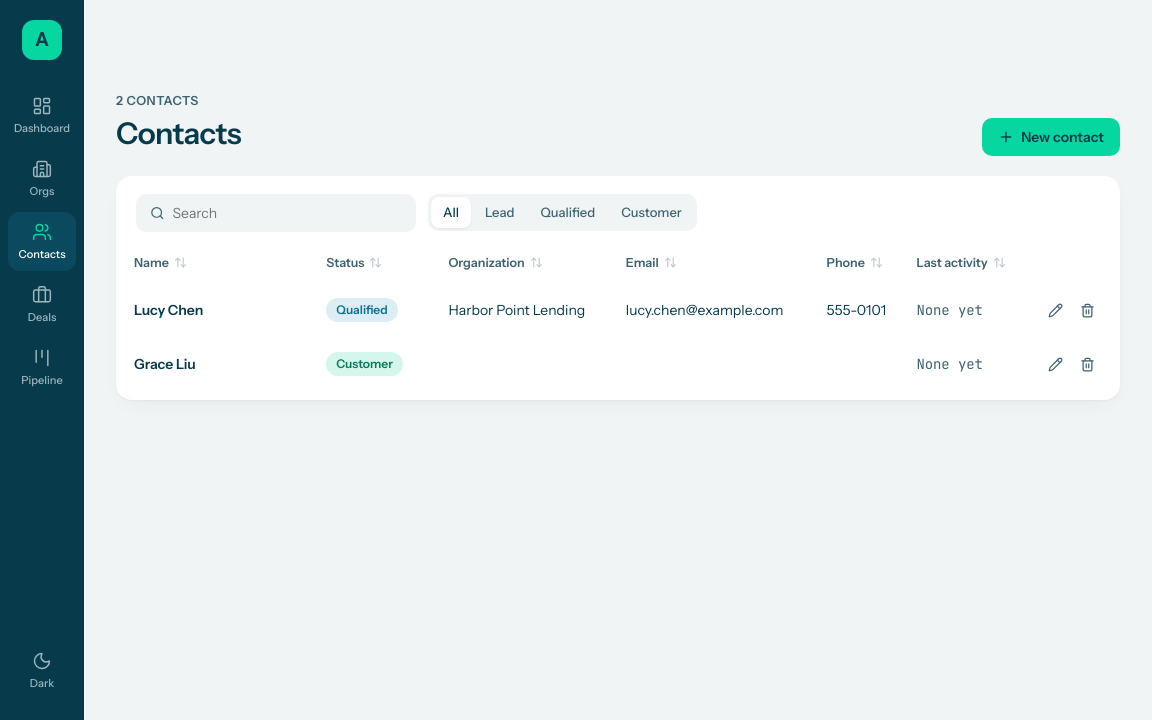
Test case: the contacts list › deletes a contact after showing what else will change
This screenshot has width=1152, height=720.
Click the button named "Delete Lucy Chen": (1087,310) [1072, 295, 1102, 325]
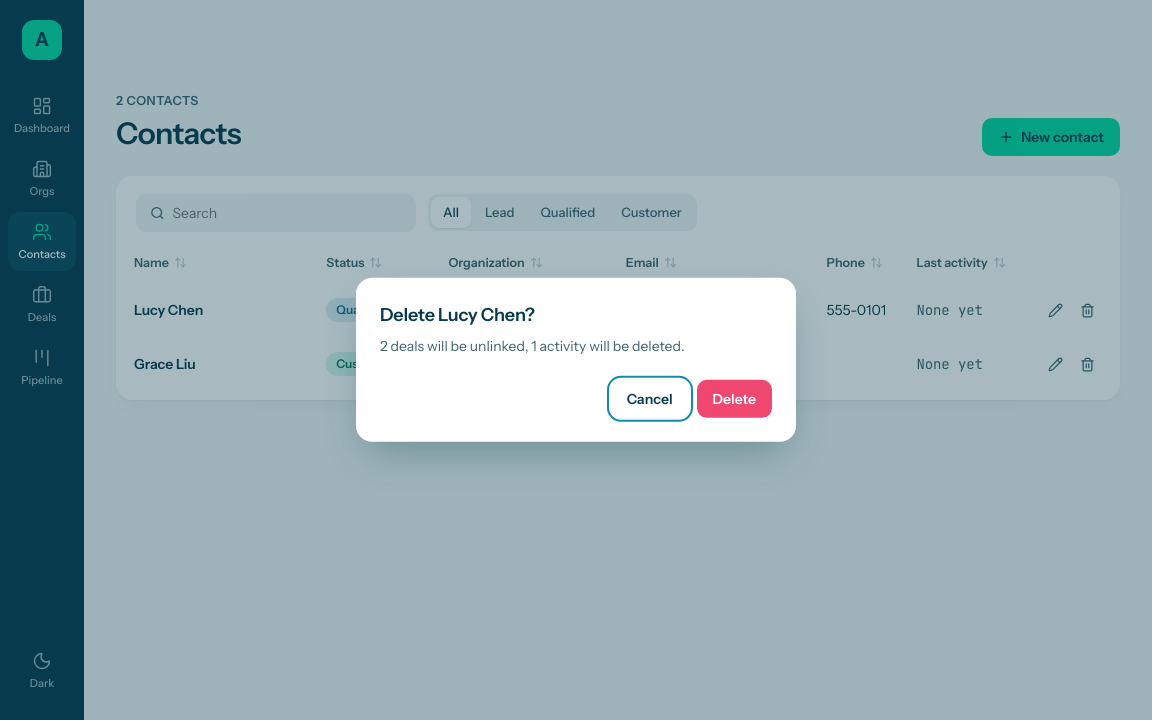
Now the text "2 deals will be unlinked, 1 activity will be deleted." is shown, box [380, 337, 685, 355]
Click the button "Delete": (734,399) [696, 380, 772, 418]
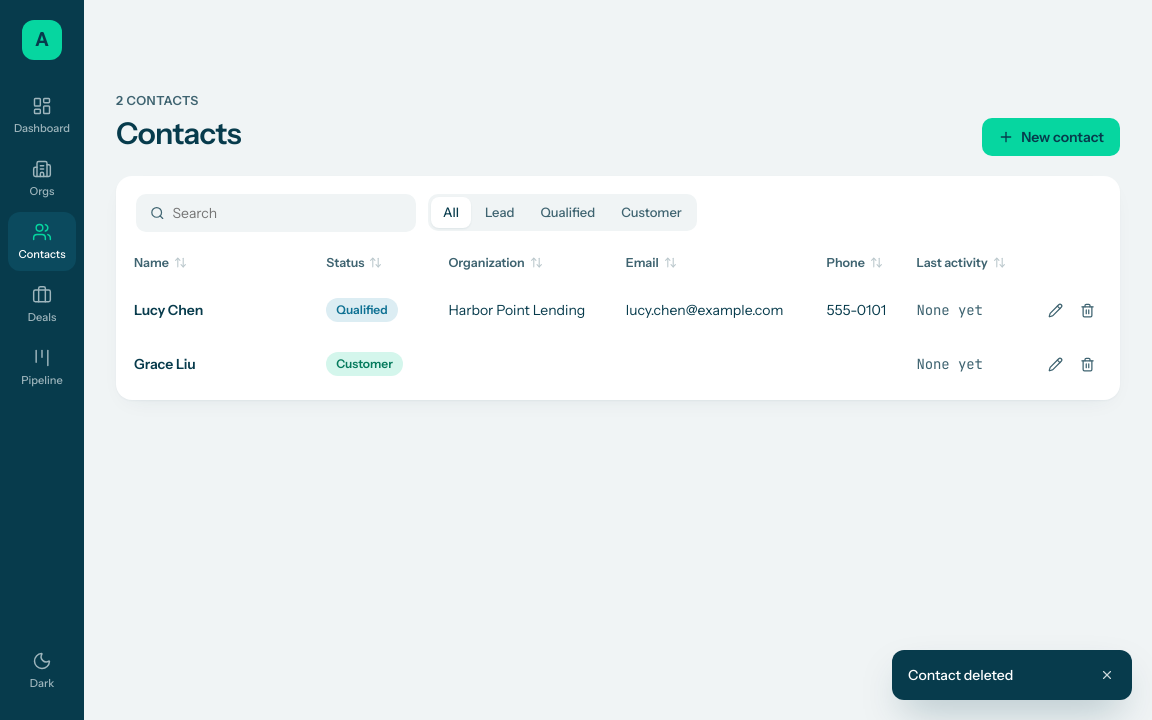
Now the text "Contact deleted" is shown, box [908, 666, 1013, 684]
